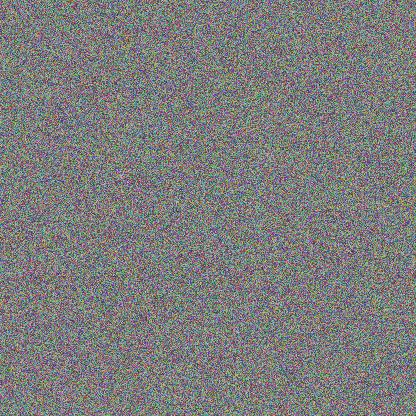empty: (93, 109, 176, 180), (110, 138, 166, 211), (165, 272, 210, 348)
